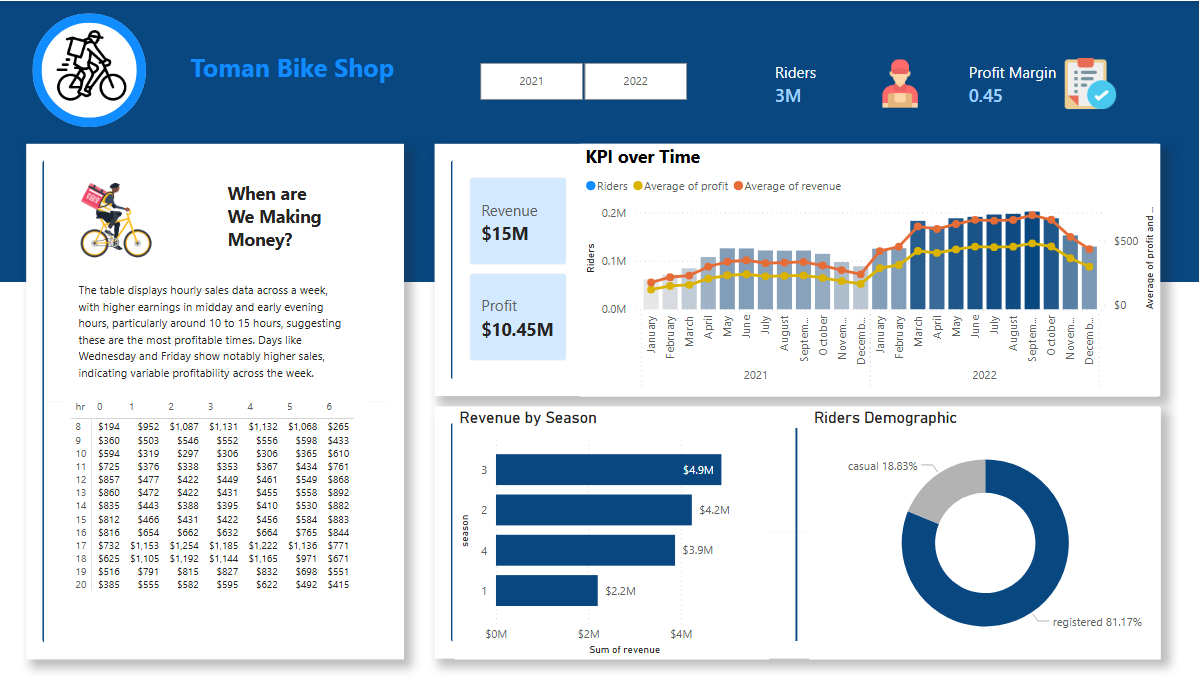

This screenshot's page, from the dashboard's own definition file:
{"tool":"powerbi","page":{"name":"Page 1","canvas":[1280,720],"ordinal":0},"visuals":[{"type":"image","box":[67.9,178.2,169.8,120.9],"z":0},{"type":"shape","box":[0,0,1279.5,299.2],"z":1000},{"type":"cardVisual","fields":{"Data":["Min(Query1.riders)"]},"box":[31.7,151.7,401.7,548.3],"z":2000},{"type":"cardVisual","fields":{"Data":["Min(Query1.riders)"]},"box":[465,151.7,771.7,268.3],"z":3000},{"type":"image","box":[68.6,184.3,114.3,94.3],"z":4000},{"type":"pivotTable","fields":{"Values":["Avg(Query1.revenue)"],"Columns":["Query1.weekday"],"Rows":["Query1.hr"]},"box":[72.9,418.6,318.6,250],"z":5000},{"type":"textbox","box":[240,185.7,122.9,92.9],"z":6000},{"type":"textbox","box":[82.2,292.2,300,121.1],"z":7000},{"type":"lineClusteredColumnComboChart","title":"KPI over Time","fields":{"Category":["Query1.dteday.Variation.Date Hierarchy.Year","Query1.dteday.Variation.Date Hierarchy.Month","Query1.dteday.Variation.Date Hierarchy.Day"],"Y":["Sum(Query1.riders)"],"Y2":["Avg(Query1.profit)","Avg(Query1.revenue)"]},"box":[621.2,151.2,615,268.8],"z":8000},{"type":"cardVisual","fields":{"Data":["Min(Query1.riders)"]},"box":[465,431.7,771.7,268.3],"z":9000},{"type":"barChart","title":"Revenue by Season","fields":{"Category":["Query1.season"],"Y":["Sum(Query1.revenue)"]},"box":[486.6,432.7,334.7,267.8],"z":10000},{"type":"donutChart","title":"Riders Demographic","fields":{"Y":["Sum(Query1.riders)"],"Category":["Query1.rider_type"]},"box":[863,432,374,268],"z":11000},{"type":"shape","box":[838.3,453.3,25,226.7],"z":12000},{"type":"cardVisual","fields":{"Data":["Sum(Query1.revenue)","Sum(Query1.profit)"]},"box":[485,170,138.8,230],"z":13000},{"type":"cardVisual","fields":{"Data":["Sum(Query1.riders)","Query1.Profit Margin"]},"box":[798.2,27.3,438.8,121.2],"z":14000},{"type":"image","box":[929.5,61.1,62.5,55],"z":15000},{"type":"image","box":[1132,61.1,62.5,55],"z":16000},{"type":"shape","box":[38.2,12.7,120.9,120.9],"z":17000},{"type":"image","box":[46.7,25.5,104,87],"z":18000},{"type":"textbox","box":[201.6,46.7,231.3,53],"z":19000},{"type":"slicer","fields":{"Values":["Query1.Years"]},"box":[488,59.4,269.5,53],"z":20000}]}

Visuals, with their boxes in screenshot pixels (x1, y1, x2, y2), scaled from the page's 1280x720 canvas onto the 1199x678 screenshot:
image: bbox=(64, 168, 223, 282)
shape: bbox=(0, 0, 1198, 282)
cardVisual - Min(Query1.riders): bbox=(30, 143, 406, 659)
cardVisual - Min(Query1.riders): bbox=(436, 143, 1158, 396)
image: bbox=(64, 174, 171, 262)
pivotTable - Avg(Query1.revenue) x Query1.weekday: bbox=(68, 394, 367, 630)
textbox: bbox=(225, 175, 340, 262)
textbox: bbox=(77, 275, 358, 389)
"KPI over Time" lineClusteredColumnComboChart: bbox=(582, 142, 1158, 396)
cardVisual - Min(Query1.riders): bbox=(436, 407, 1158, 659)
"Revenue by Season" barChart: bbox=(456, 407, 769, 660)
"Riders Demographic" donutChart: bbox=(808, 407, 1159, 659)
shape: bbox=(785, 427, 809, 640)
cardVisual - Sum(Query1.revenue) x Sum(Query1.profit): bbox=(454, 160, 584, 377)
cardVisual - Sum(Query1.riders) x Query1.Profit Margin: bbox=(748, 26, 1159, 140)
image: bbox=(871, 58, 929, 109)
image: bbox=(1060, 58, 1119, 109)
shape: bbox=(36, 12, 149, 126)
image: bbox=(44, 24, 141, 106)
textbox: bbox=(189, 44, 406, 94)
slicer - Query1.Years: bbox=(457, 56, 710, 106)
